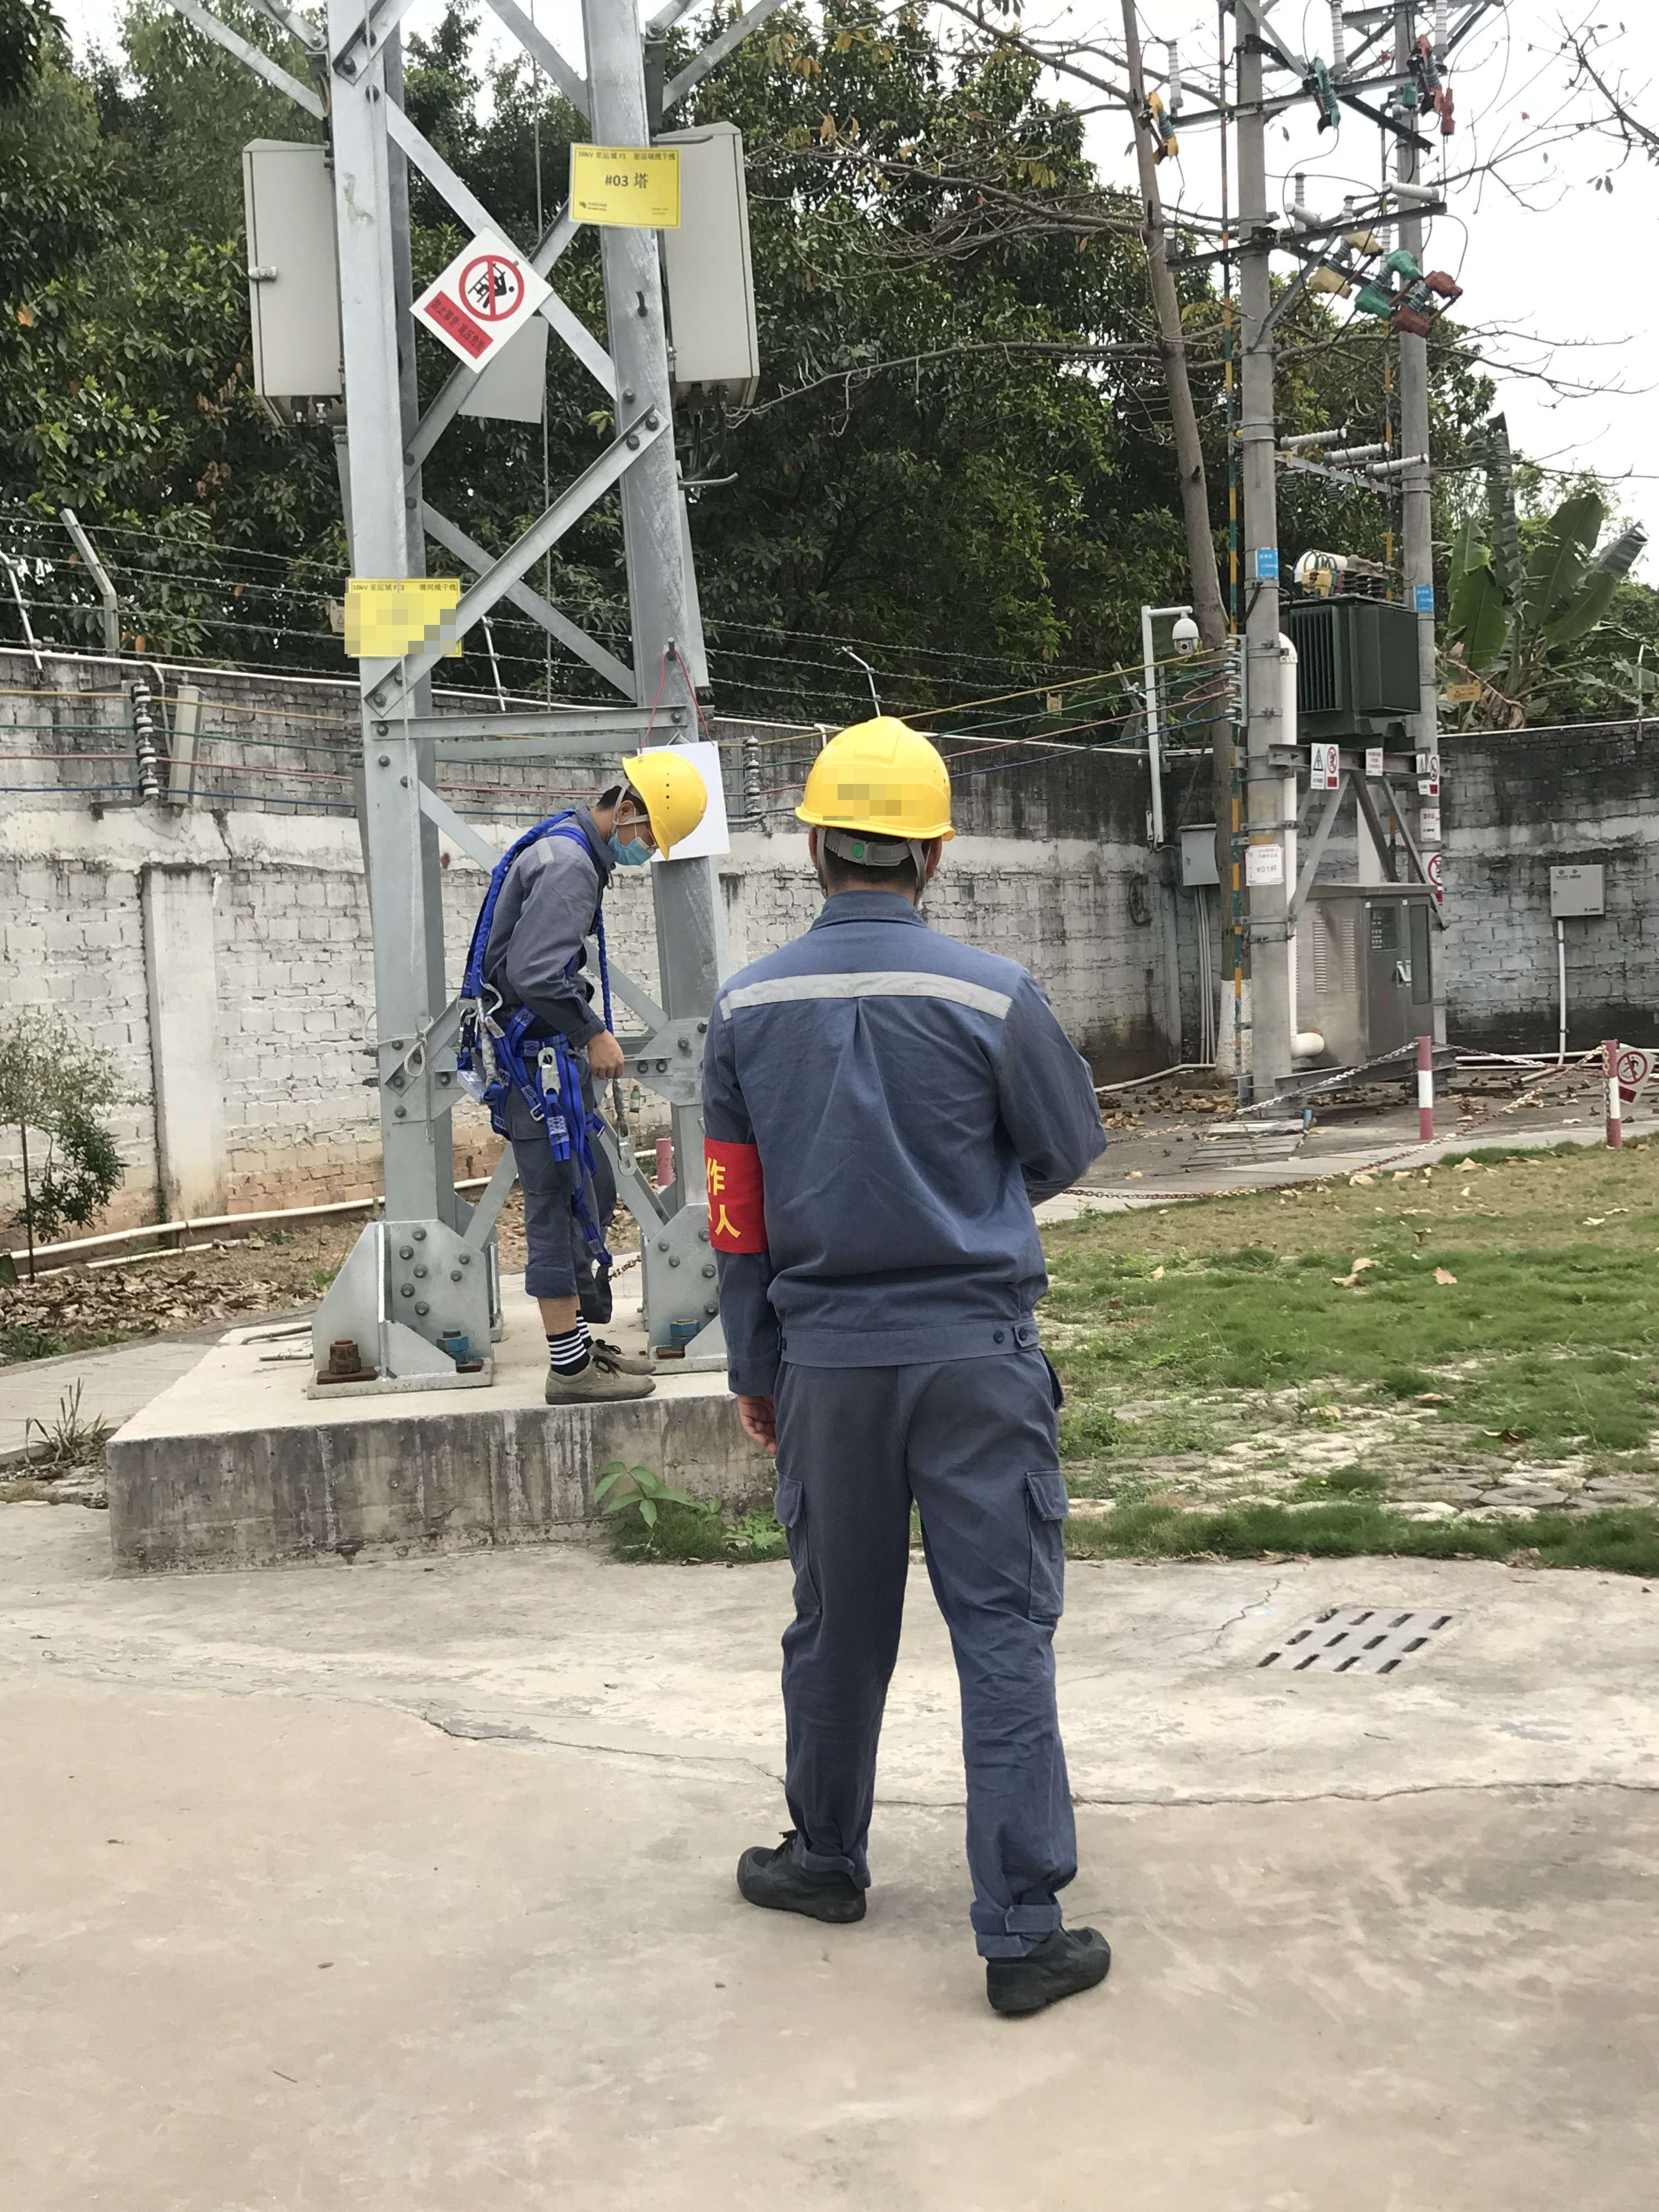downsuit: (746, 1388, 1098, 1946), (497, 1062, 603, 1305)
upsuit: (688, 900, 1122, 1369), (476, 820, 620, 1036)
wrongbottom: (526, 1261, 580, 1355)
